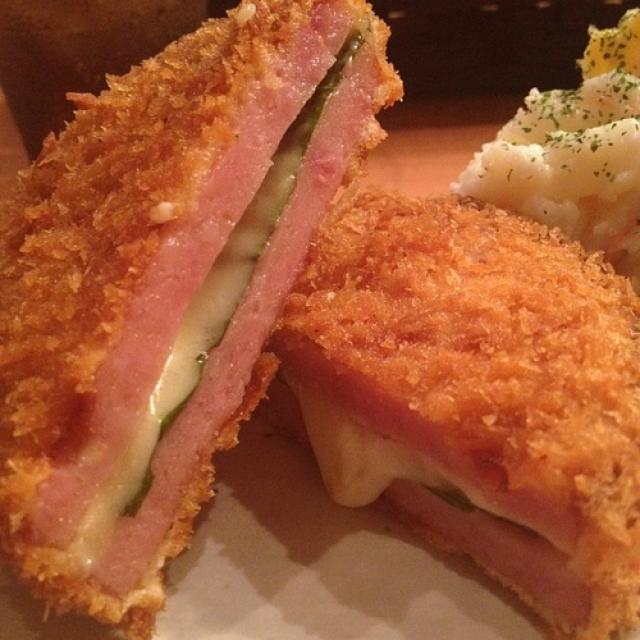炸货点心: (5, 8, 638, 628)
